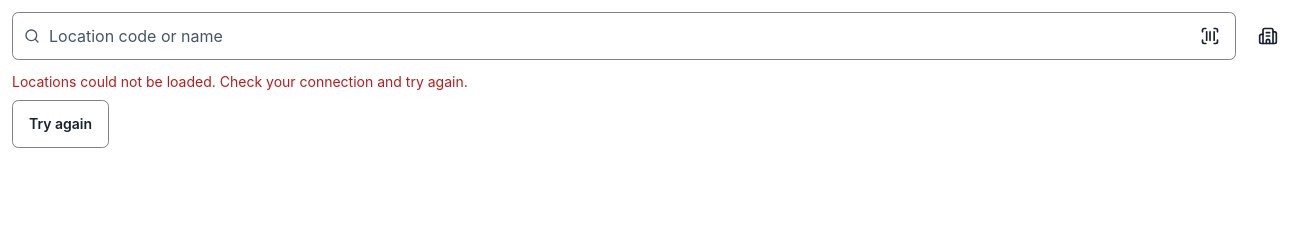
Test: shows a recoverable failure when the list query fails
Check: the message shows "Locations could not be loaded.", box [12,73,468,90]
Check: the field named "Search location" is enabled, box [12,12,1236,60]
Click the button "Try again".
click(61, 124)  # box [12,100,109,148]
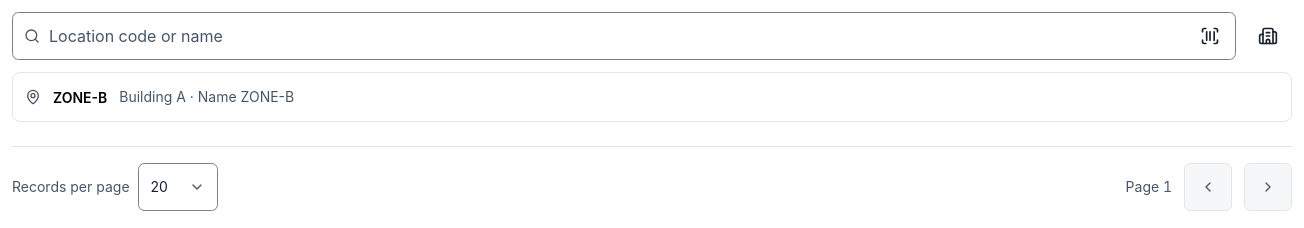
Check: the button "ZONE-B Building A · Name ZONE-B" is shown, box [13,73,1291,121]
